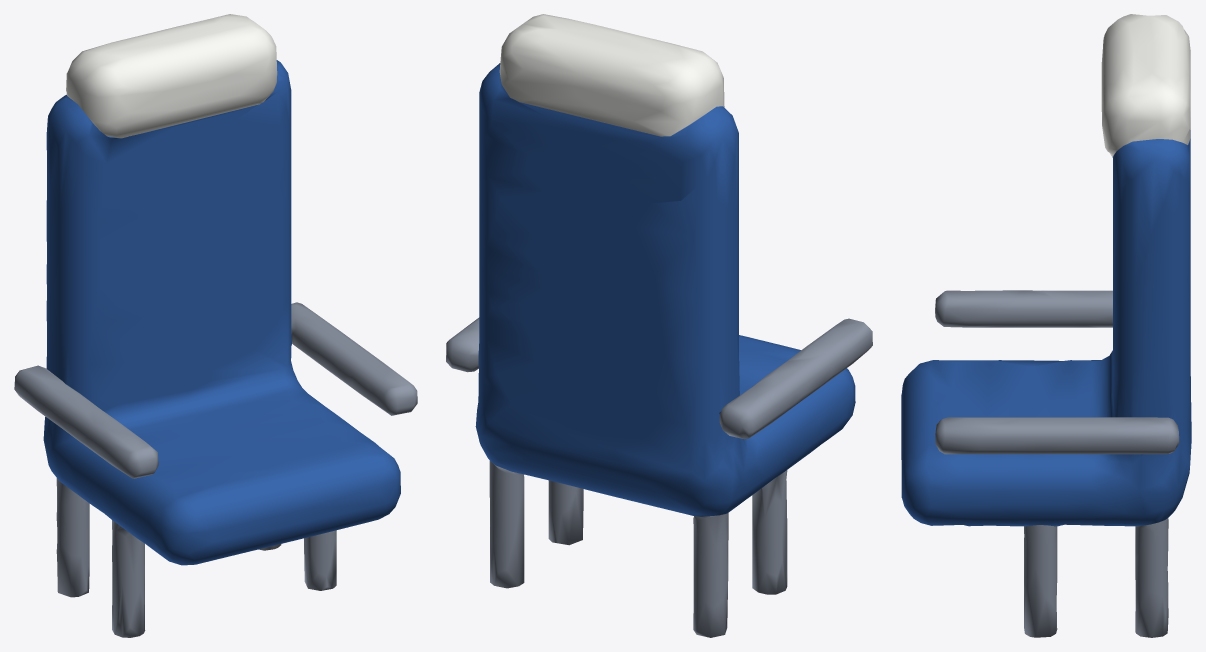
The model's file is seat.glb.
3 renders of one model, left to right at view 1: azimuth 30°, elevation 25°; view 2: azimuth 150°, elevation 25°; view 3: azimuth 270°, elevation 25°, orthographic. The views are drawn at different scales.
Parts seen in each view (by area): view 1: root; view 2: root; view 3: root.
Boxes of the visible parts, left/top/right/bottom form: root: left=14, top=14, right=417, bottom=637; root: left=446, top=14, right=872, bottom=637; root: left=901, top=14, right=1191, bottom=637.
Bounding box in the file's own units: 0.6094 × 1.06 × 0.5215.
